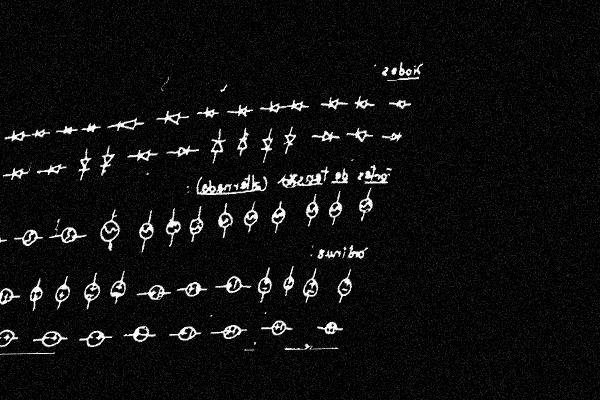diode: (74, 151, 96, 177), (232, 130, 254, 153), (206, 134, 229, 156), (111, 116, 142, 132), (160, 108, 186, 127), (96, 149, 117, 171), (348, 126, 372, 144), (130, 147, 157, 163), (171, 142, 196, 159), (352, 93, 374, 112), (321, 95, 344, 113), (228, 103, 253, 119), (316, 128, 339, 145), (279, 131, 299, 150), (286, 97, 307, 115), (257, 136, 276, 154), (44, 162, 65, 177), (6, 167, 28, 181), (198, 105, 219, 119), (265, 100, 284, 115), (82, 119, 101, 134), (56, 124, 77, 137), (8, 129, 29, 142), (31, 126, 50, 140), (386, 130, 403, 144), (392, 98, 409, 110)
signal: (95, 215, 125, 247), (213, 207, 238, 235), (160, 214, 186, 240), (239, 203, 263, 230), (134, 218, 158, 243), (353, 194, 377, 219), (185, 213, 208, 239), (266, 204, 289, 230), (15, 227, 43, 248), (325, 197, 348, 221), (54, 226, 83, 245), (301, 199, 324, 222), (0, 232, 7, 252)
voltage: (80, 327, 112, 349), (79, 279, 105, 306), (331, 275, 357, 301), (299, 274, 324, 301), (252, 272, 277, 299), (263, 317, 295, 338), (217, 274, 248, 295), (141, 281, 172, 302), (106, 276, 131, 302), (216, 321, 248, 341), (35, 330, 68, 349), (51, 280, 75, 306), (171, 323, 202, 343), (126, 324, 155, 344), (25, 282, 48, 306), (318, 317, 345, 336), (181, 278, 206, 298), (0, 328, 19, 349), (279, 274, 298, 294), (0, 286, 20, 305)
